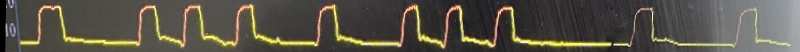normal_pressure: (11, 0, 800, 52)
